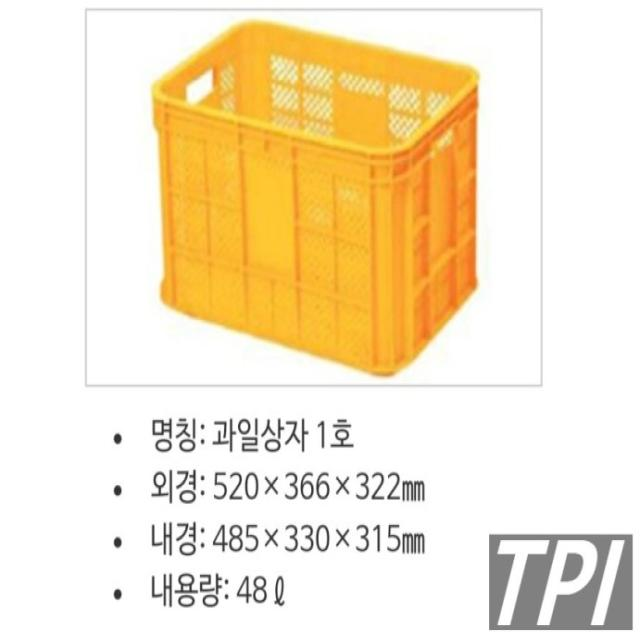basket: (153, 20, 477, 375)
